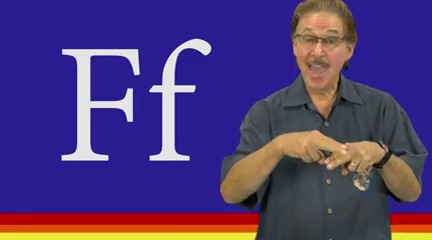F: (271, 126, 383, 182)
